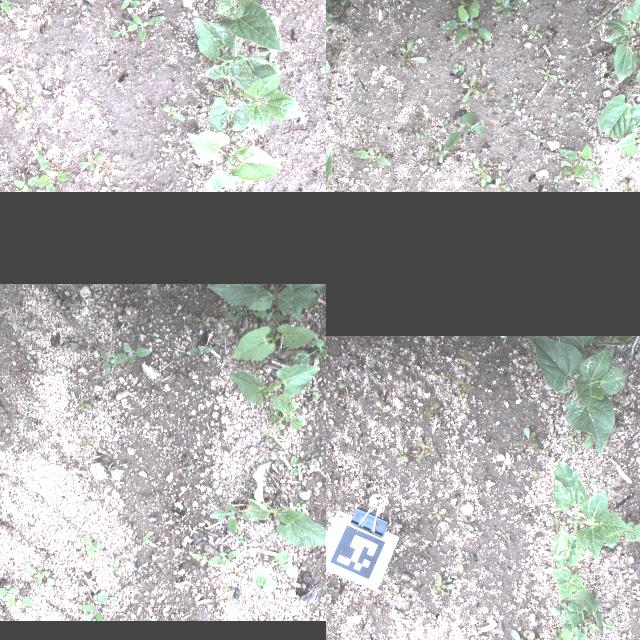crop: (192, 18, 310, 138), (526, 336, 634, 456), (550, 461, 640, 567), (226, 365, 324, 457), (239, 458, 326, 547), (207, 285, 326, 328), (186, 131, 282, 181), (593, 52, 640, 148), (211, 0, 281, 52), (230, 320, 314, 362), (599, 0, 640, 84), (554, 591, 613, 640), (547, 568, 587, 602), (536, 627, 612, 640), (611, 130, 640, 163), (203, 171, 238, 192)
weed: (437, 0, 491, 54), (552, 145, 602, 192), (97, 340, 155, 380), (442, 110, 484, 156), (384, 38, 430, 76), (252, 552, 290, 598), (291, 332, 326, 377), (34, 154, 70, 192), (123, 14, 167, 44), (208, 502, 238, 538), (78, 147, 110, 180), (77, 588, 109, 620), (17, 563, 58, 587), (468, 155, 494, 192), (347, 147, 391, 167), (458, 72, 482, 106), (0, 586, 33, 608), (183, 550, 219, 570), (75, 532, 105, 556), (514, 427, 538, 457), (489, 0, 523, 16), (212, 550, 242, 568), (413, 436, 432, 462), (434, 573, 456, 595), (421, 400, 445, 420), (9, 175, 37, 192), (109, 22, 137, 38), (184, 342, 216, 356), (188, 310, 210, 330), (403, 124, 427, 142), (610, 178, 640, 192), (329, 0, 364, 12), (221, 582, 237, 608), (138, 528, 158, 548), (75, 394, 97, 412), (222, 307, 244, 325), (286, 453, 302, 477), (56, 338, 80, 354), (485, 177, 510, 192), (162, 104, 184, 120), (508, 629, 538, 640), (391, 447, 409, 465), (101, 175, 120, 192), (524, 24, 544, 40), (8, 97, 24, 115), (107, 553, 125, 569), (328, 381, 344, 399), (456, 376, 472, 394), (583, 426, 595, 450), (536, 67, 556, 81), (546, 507, 560, 527), (454, 346, 470, 362), (158, 441, 176, 455), (461, 514, 475, 532), (114, 0, 139, 9), (430, 506, 446, 520), (352, 366, 370, 376), (540, 185, 564, 192), (374, 390, 384, 406), (568, 436, 578, 452), (538, 446, 548, 462), (602, 464, 616, 474), (394, 584, 401, 604), (550, 630, 564, 640), (23, 354, 34, 366), (0, 0, 10, 12), (609, 600, 619, 612), (531, 469, 541, 481), (456, 558, 464, 572), (609, 404, 625, 410), (385, 589, 397, 597), (635, 554, 640, 569), (164, 519, 174, 525), (430, 369, 438, 376), (328, 512, 334, 518)
